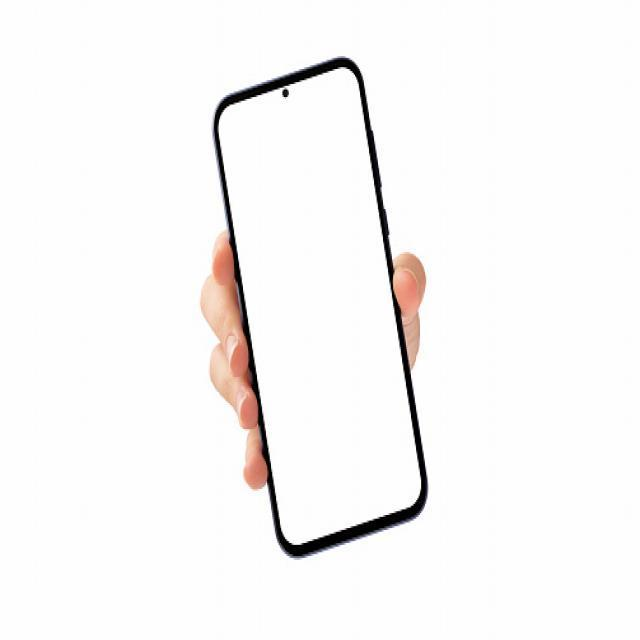Phone: (208, 55, 432, 565)
